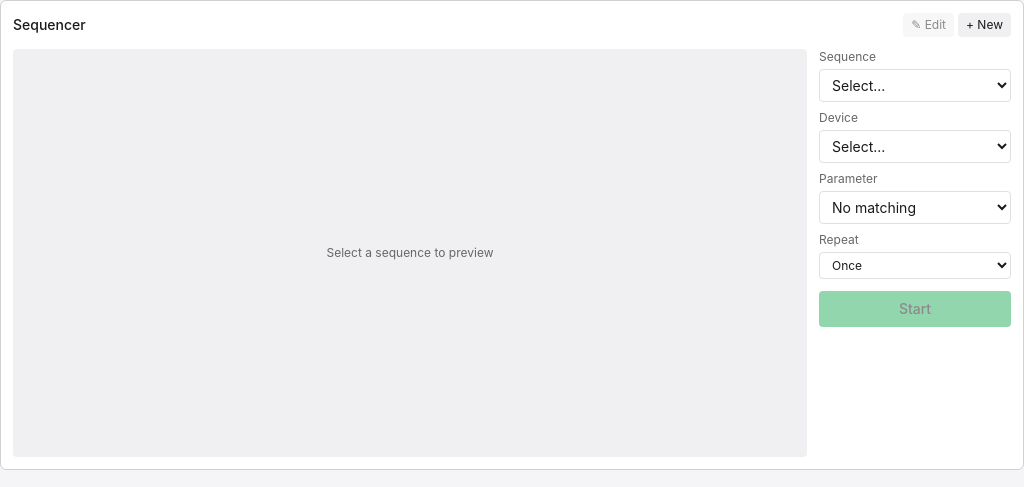
Test: SequencePanel Integration › Sequence CRUD Operations › should open editor with sequence when Edit is clicked
Expected: the heading "Sequencer" is shown, [13,15,86,35]
Note: Select a sequence first
Step 1. Select "Voltage Ramp (V)" in the 1st dropdown → (915, 86), box [819,69,1011,102]
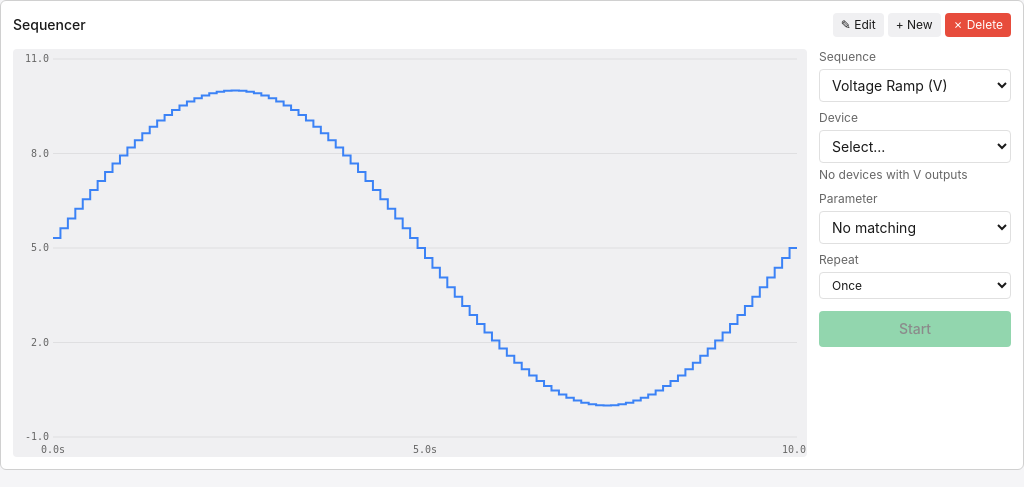
Result: the button "✎ Edit" is enabled
Step 2. Click the button "✎ Edit" → (858, 25), box [833,13,884,37]
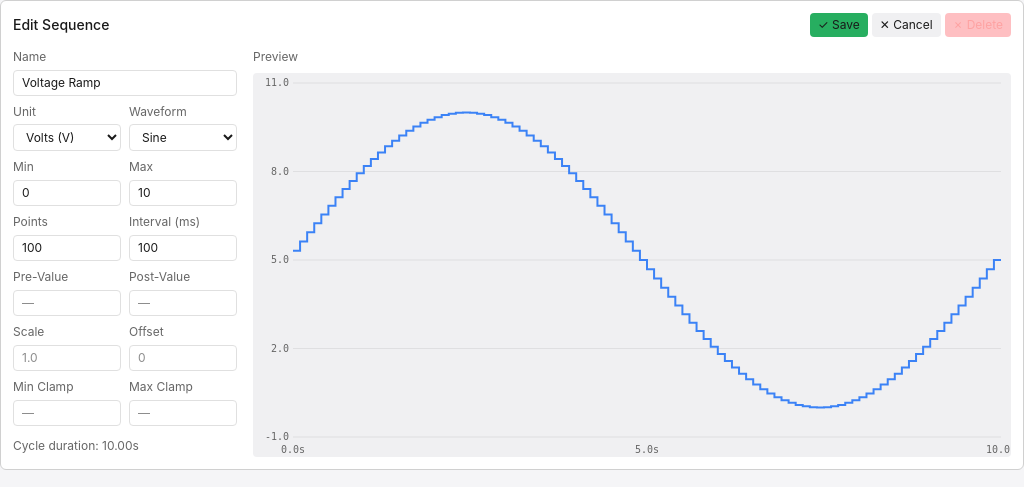
Result: the button "✕ Cancel" is shown at [872,13,941,37]
